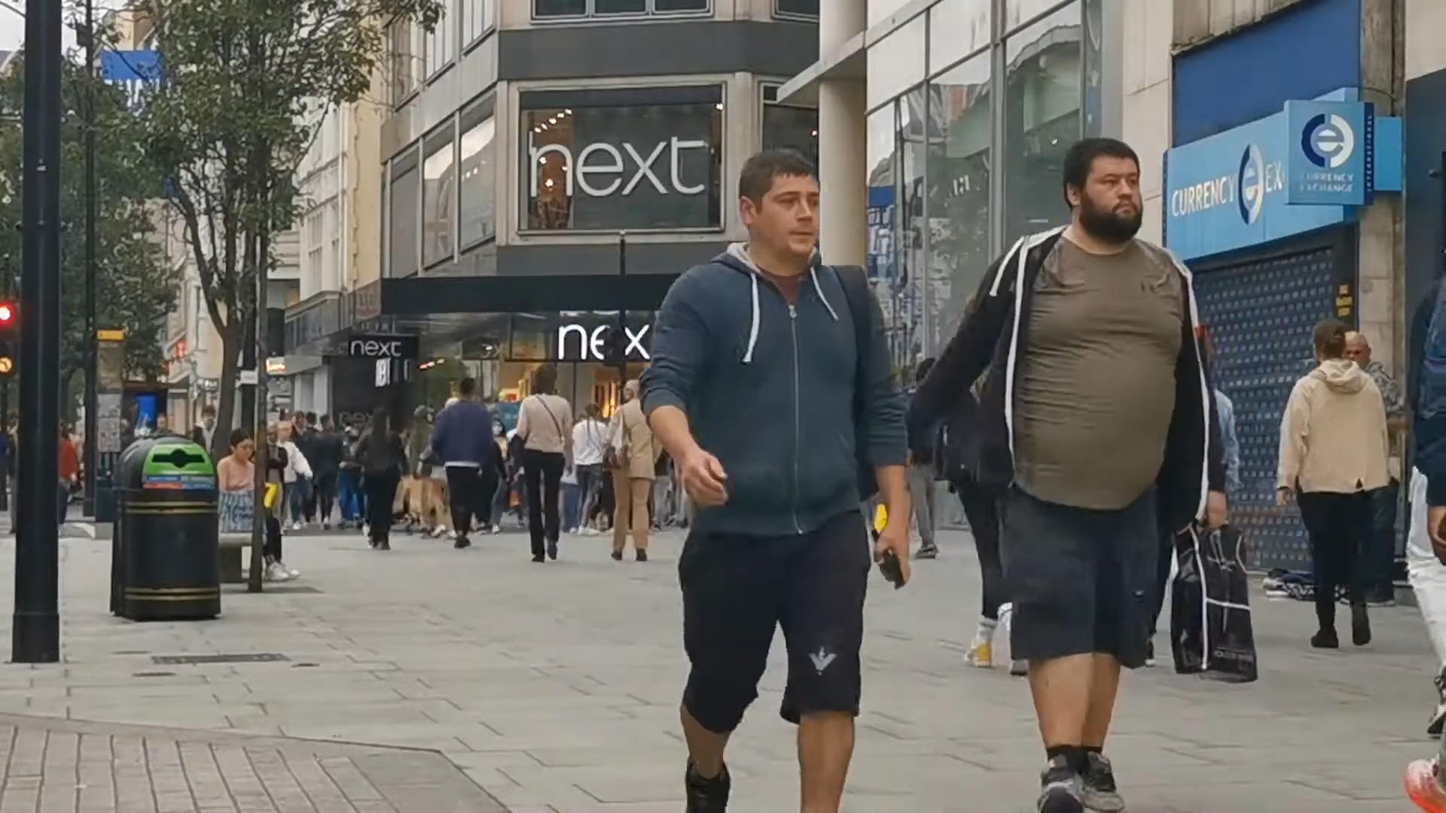no-helmet: (739, 148, 820, 263), (1063, 138, 1142, 249), (1312, 318, 1347, 362), (228, 428, 254, 462), (531, 362, 556, 397)
